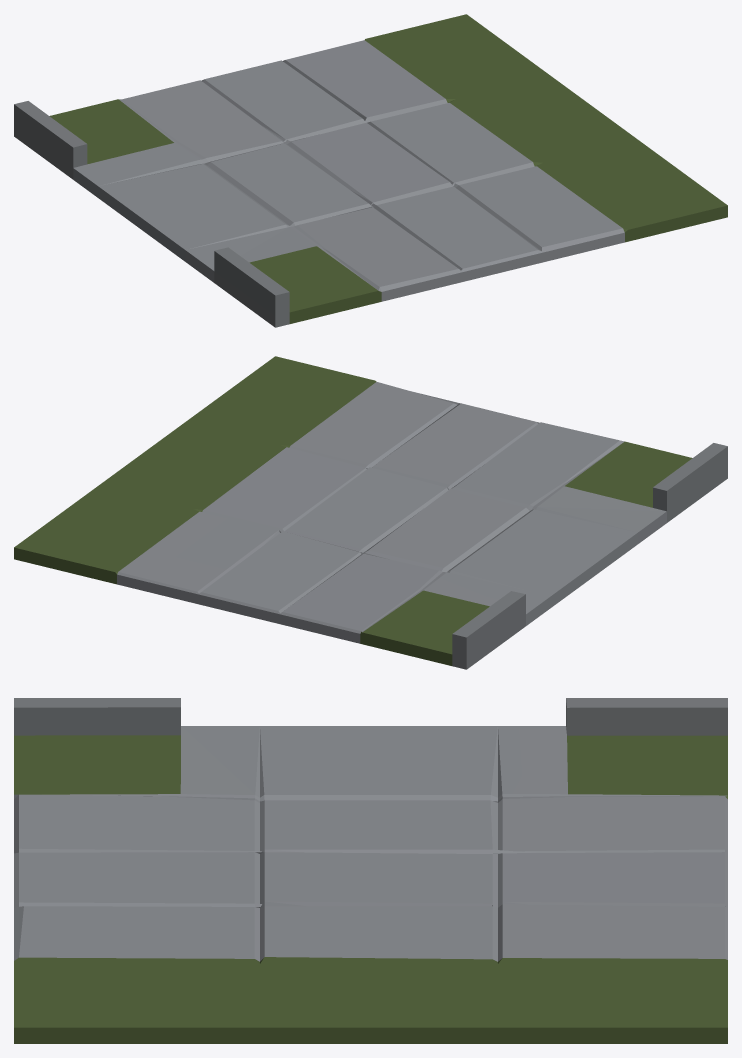
The model's file is Road_028-col.glb.
3 views of the same model, one above another, from view 1: azimuth 30°, elevation 25°; view 2: azimuth 150°, elevation 25°; view 3: azimuth 270°, elevation 25° (orthographic). The views are drawn at different scales.
Visible parts, largest first — view 1: Sidewalk_07_C-col; view 2: Sidewalk_07_C-col; view 3: Sidewalk_07_C-col.
Part boxes in pixels (x1=…): Sidewalk_07_C-col: x1=14, y1=14, x2=727, y2=327; Sidewalk_07_C-col: x1=14, y1=356, x2=727, y2=669; Sidewalk_07_C-col: x1=14, y1=698, x2=727, y2=1043.
Size of the model in its own units: 2 by 0.1364 by 2.
1 material, 1 textured.
